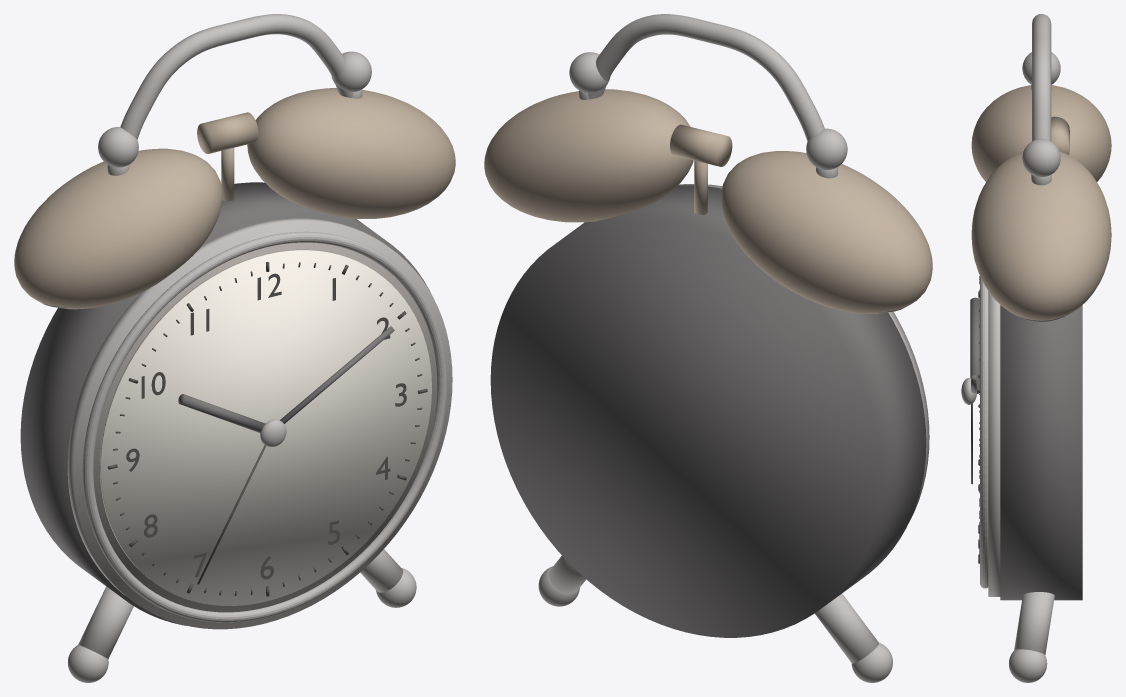
File: alarm_clock.glb
3 renders of one model, left to right at view 1: azimuth 30°, elevation 25°; view 2: azimuth 150°, elevation 25°; view 3: azimuth 270°, elevation 25°, orthographic. The views are drawn at different scales.
Visible parts, largest first — view 1: Warm Cream Clock Dial, Left Alarm Bell Dome, Right Alarm Bell Dome, Round Deep Clock Housing, Polished Raised Circular Bezel, Outer Silver Clock Rim, Dark Inner Dial Border, Curved Metallic Alarm Handle, Metal Clock Foot -1, Alarm Hammer Horizontal Head, Left Alarm Bell Top Knob, Rounded Foot End -1 (+6 smaller); view 2: Round Deep Clock Housing, Left Alarm Bell Dome, Right Alarm Bell Dome, Curved Metallic Alarm Handle, Metal Clock Foot -1, Alarm Hammer Horizontal Head, Left Alarm Bell Top Knob, Right Alarm Bell Top Knob, Rounded Foot End -1, Outer Silver Clock Rim, Metal Clock Foot 1, Alarm Hammer Vertical Stem (+1 smaller); view 3: Round Deep Clock Housing, Right Alarm Bell Dome, Left Alarm Bell Dome, Outer Silver Clock Rim, Polished Raised Circular Bezel, Curved Metallic Alarm Handle, Metal Clock Foot 1, Right Alarm Bell Top Knob, Rounded Foot End 1, Hour Hand, Alarm Hammer Horizontal Head, Left Alarm Bell Top Knob (+1 smaller).
Boxes of the visible parts, x1,y1,x2,y2 form: Warm Cream Clock Dial: (100,249,431,605); Left Alarm Bell Dome: (14,148,222,309); Right Alarm Bell Dome: (247,88,455,218); Round Deep Clock Housing: (20,182,430,625); Polished Raised Circular Bezel: (82,231,447,622); Outer Silver Clock Rim: (67,218,452,629); Dark Inner Dial Border: (93,242,437,612); Curved Metallic Alarm Handle: (120,14,353,139); Metal Clock Foot -1: (78,586,133,659); Alarm Hammer Horizontal Head: (197,112,258,153); Left Alarm Bell Top Knob: (98,127,138,167); Rounded Foot End -1: (67,645,108,682); Round Deep Clock Housing: (490,185,926,637); Left Alarm Bell Dome: (721,151,932,313); Right Alarm Bell Dome: (484,89,693,222); Curved Metallic Alarm Handle: (588,14,824,141); Metal Clock Foot -1: (815,593,879,663); Alarm Hammer Horizontal Head: (670,124,732,166); Left Alarm Bell Top Knob: (806,128,847,169); Right Alarm Bell Top Knob: (569,52,610,93); Rounded Foot End -1: (851,643,892,682); Outer Silver Clock Rim: (678,184,929,521); Metal Clock Foot 1: (549,556,586,593); Alarm Hammer Vertical Stem: (694,160,707,214); Round Deep Clock Housing: (1000,305,1082,600); Right Alarm Bell Dome: (971,151,1111,320); Left Alarm Bell Dome: (971,85,1111,181); Outer Silver Clock Rim: (988,291,1000,596); Polished Raised Circular Bezel: (980,276,988,588); Curved Metallic Alarm Handle: (1032,14,1051,141); Metal Clock Foot 1: (1014,592,1054,654); Right Alarm Bell Top Knob: (1022,139,1060,176); Rounded Foot End 1: (1009,649,1047,682); Hour Hand: (970,297,979,393); Alarm Hammer Horizontal Head: (1051,116,1069,154); Left Alarm Bell Top Knob: (1022,52,1060,84).
Size of what is drawn, in the model's own units: 4.11 by 5.65 by 1.33.
